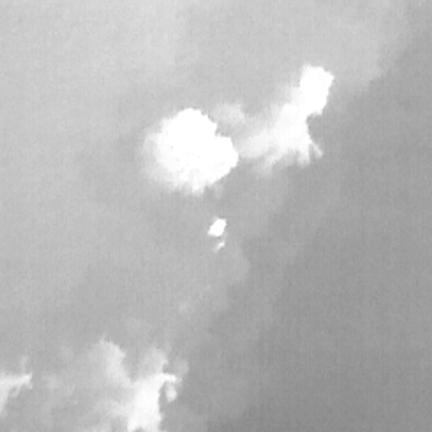flukeprints: (145, 108, 238, 194), (265, 66, 333, 163), (208, 218, 226, 236)
